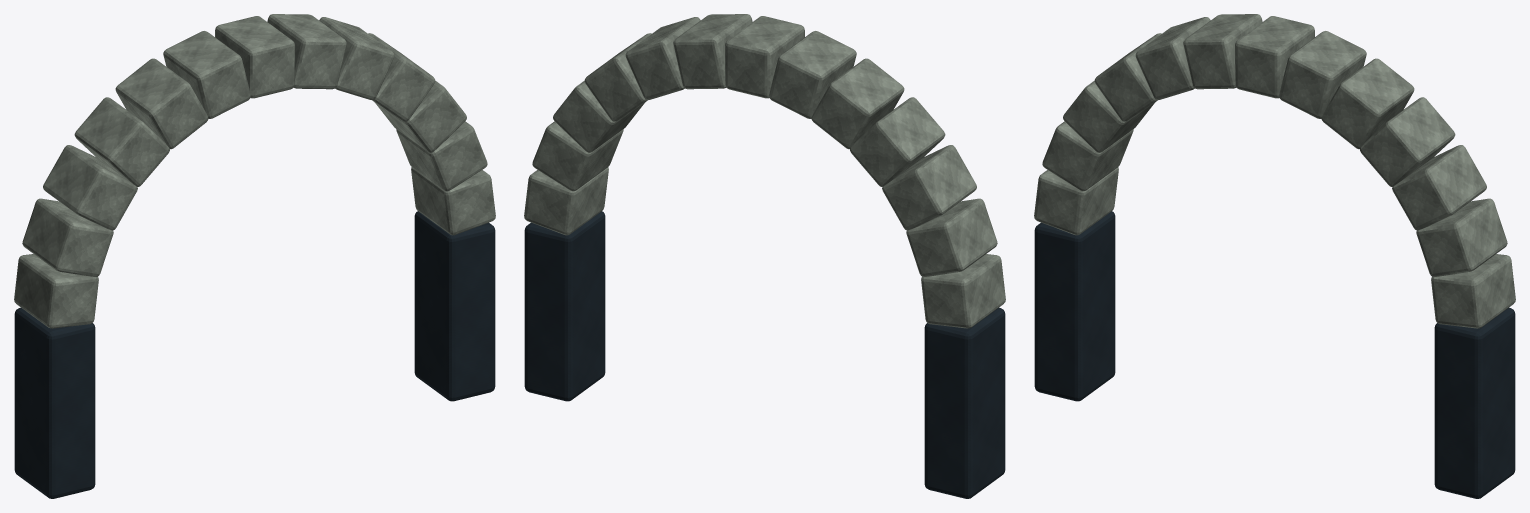
Rendered from arch.glb.
3 views of the same model, side by side, from view 1: azimuth 30°, elevation 25°; view 2: azimuth 150°, elevation 25°; view 3: azimuth 330°, elevation 25° (orthographic).
Visible parts, largest first — view 1: Veined_marble, Weathered_basalt; view 2: Veined_marble, Weathered_basalt; view 3: Veined_marble, Weathered_basalt.
Boxes of the visible parts, x1,y1,x2,y2 form: Veined_marble: [14, 14, 495, 328]; Weathered_basalt: [14, 211, 495, 498]; Veined_marble: [524, 14, 1005, 328]; Weathered_basalt: [524, 211, 1005, 498]; Veined_marble: [1034, 14, 1515, 328]; Weathered_basalt: [1034, 211, 1515, 498].
Bounding box in the file's own units: 4.48 × 3.83 × 0.65.
2 materials, 2 textured.
